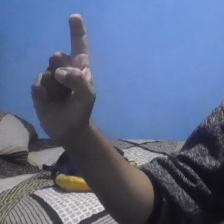X: (24, 10, 101, 148)
